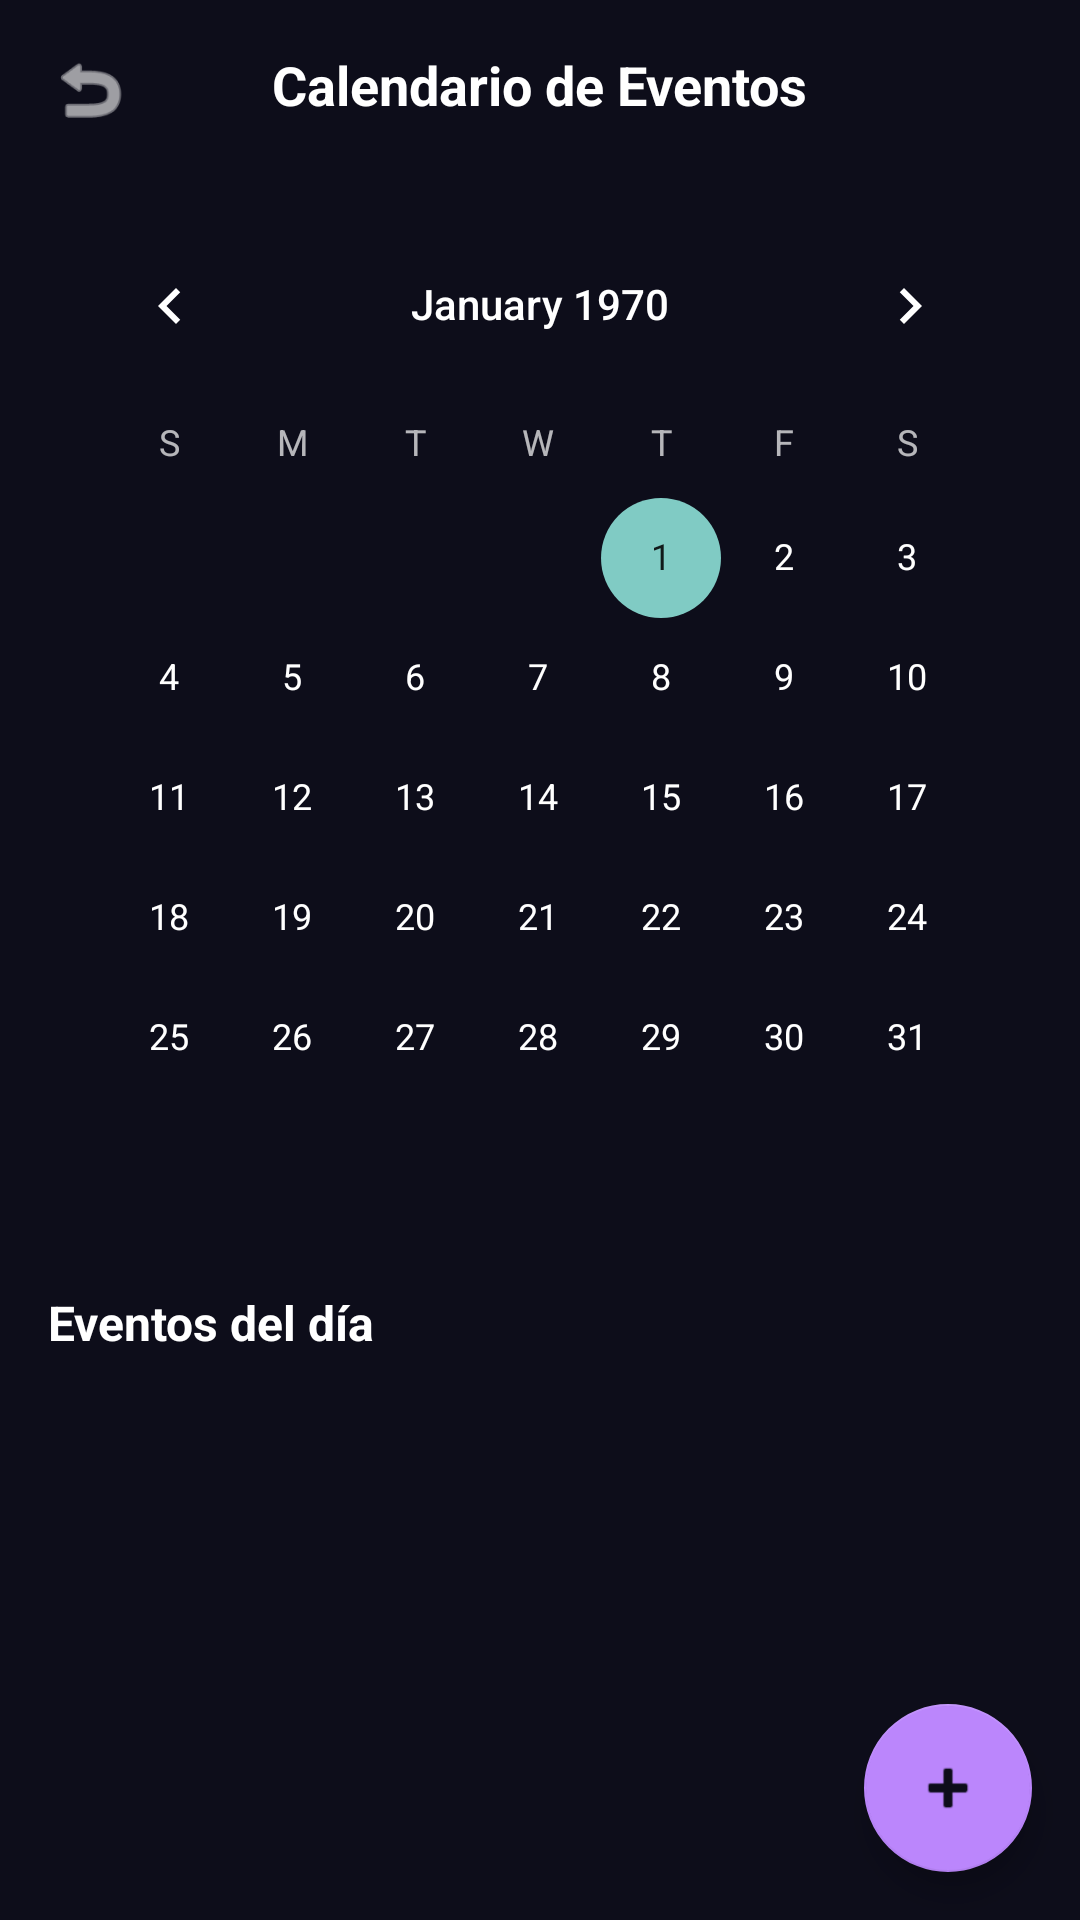

Icons on this 1080 x 1920 Android screen, each with its box as (x1, y1, x2, y2):
add: (864, 1704, 1032, 1872)
revert: (61, 63, 122, 118)
